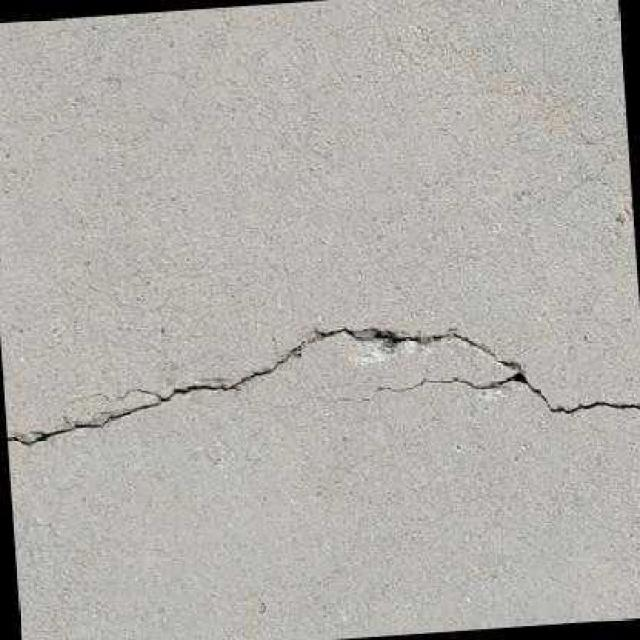D00: (7, 326, 640, 446)
